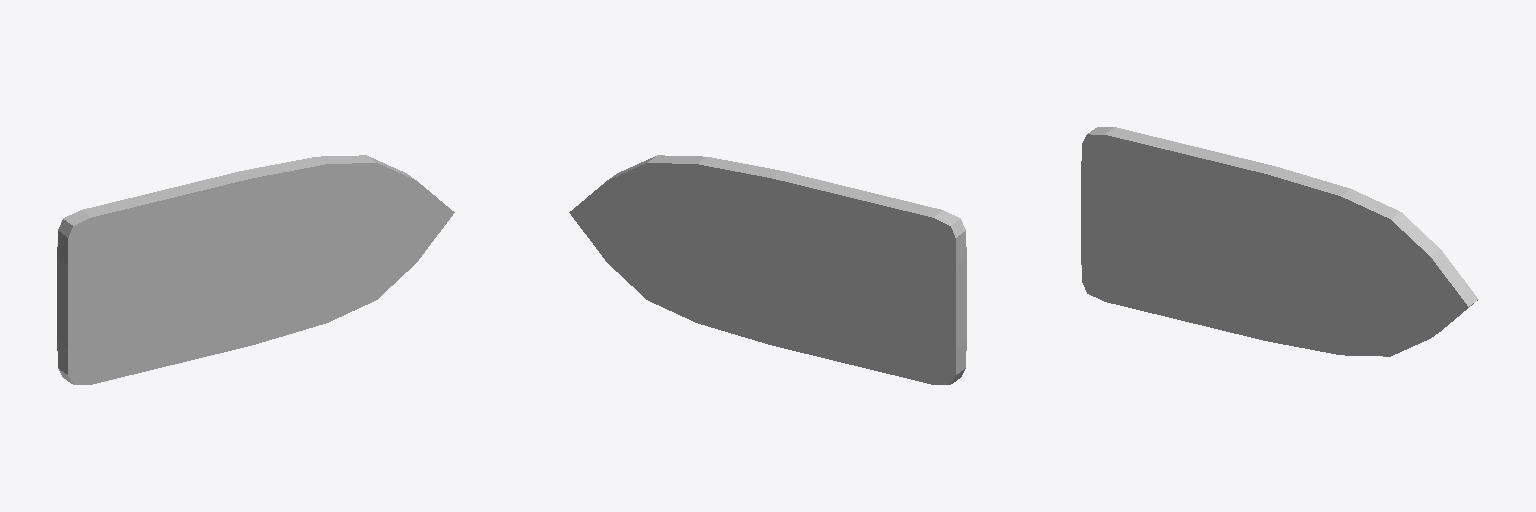
The model's file is Sign-Right.obj.
The picture shows the model from 3 angles: view 1: azimuth 30°, elevation 25°; view 2: azimuth 150°, elevation 25°; view 3: azimuth 330°, elevation 25°; orthographic projection.
Visible parts, largest first — view 1: Sign-Right_Plane.002; view 2: Sign-Right_Plane.002; view 3: Sign-Right_Plane.002.
Boxes of the visible parts, box(x1,y1,x2,y2) form: Sign-Right_Plane.002: box(57, 155, 454, 384); Sign-Right_Plane.002: box(569, 155, 966, 384); Sign-Right_Plane.002: box(1081, 127, 1478, 356).
Bounding box in the file's own units: 1.3 × 0.5362 × 0.06.